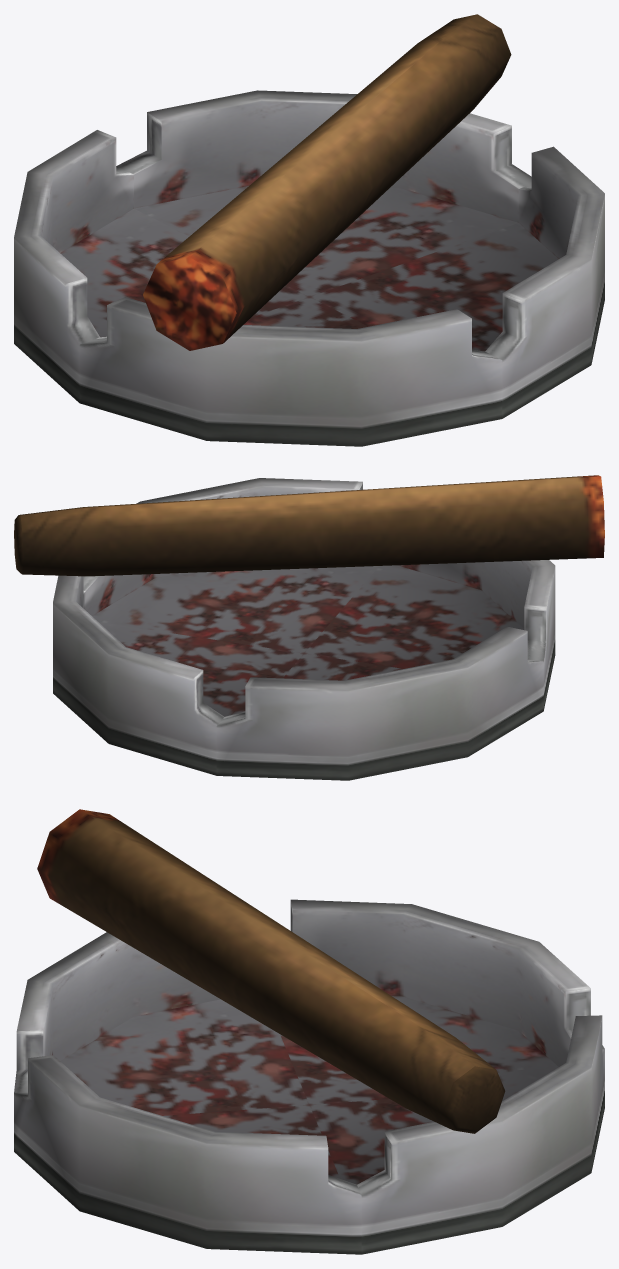
The model's file is ChengShiDiTu_yanhuigang_01.FBX.
3 renders of one model, top to bottom at view 1: azimuth 30°, elevation 25°; view 2: azimuth 150°, elevation 25°; view 3: azimuth 270°, elevation 25°, orthographic. The views are drawn at different scales.
Parts seen in each view (by area): view 1: Object002; view 2: Object002; view 3: Object002.
Boxes of the visible parts, bbox=[...] form: Object002: bbox=[14, 14, 604, 446]; Object002: bbox=[14, 475, 604, 780]; Object002: bbox=[14, 809, 604, 1254].
Bounding box in the file's own units: 111 × 41.17 × 107.
